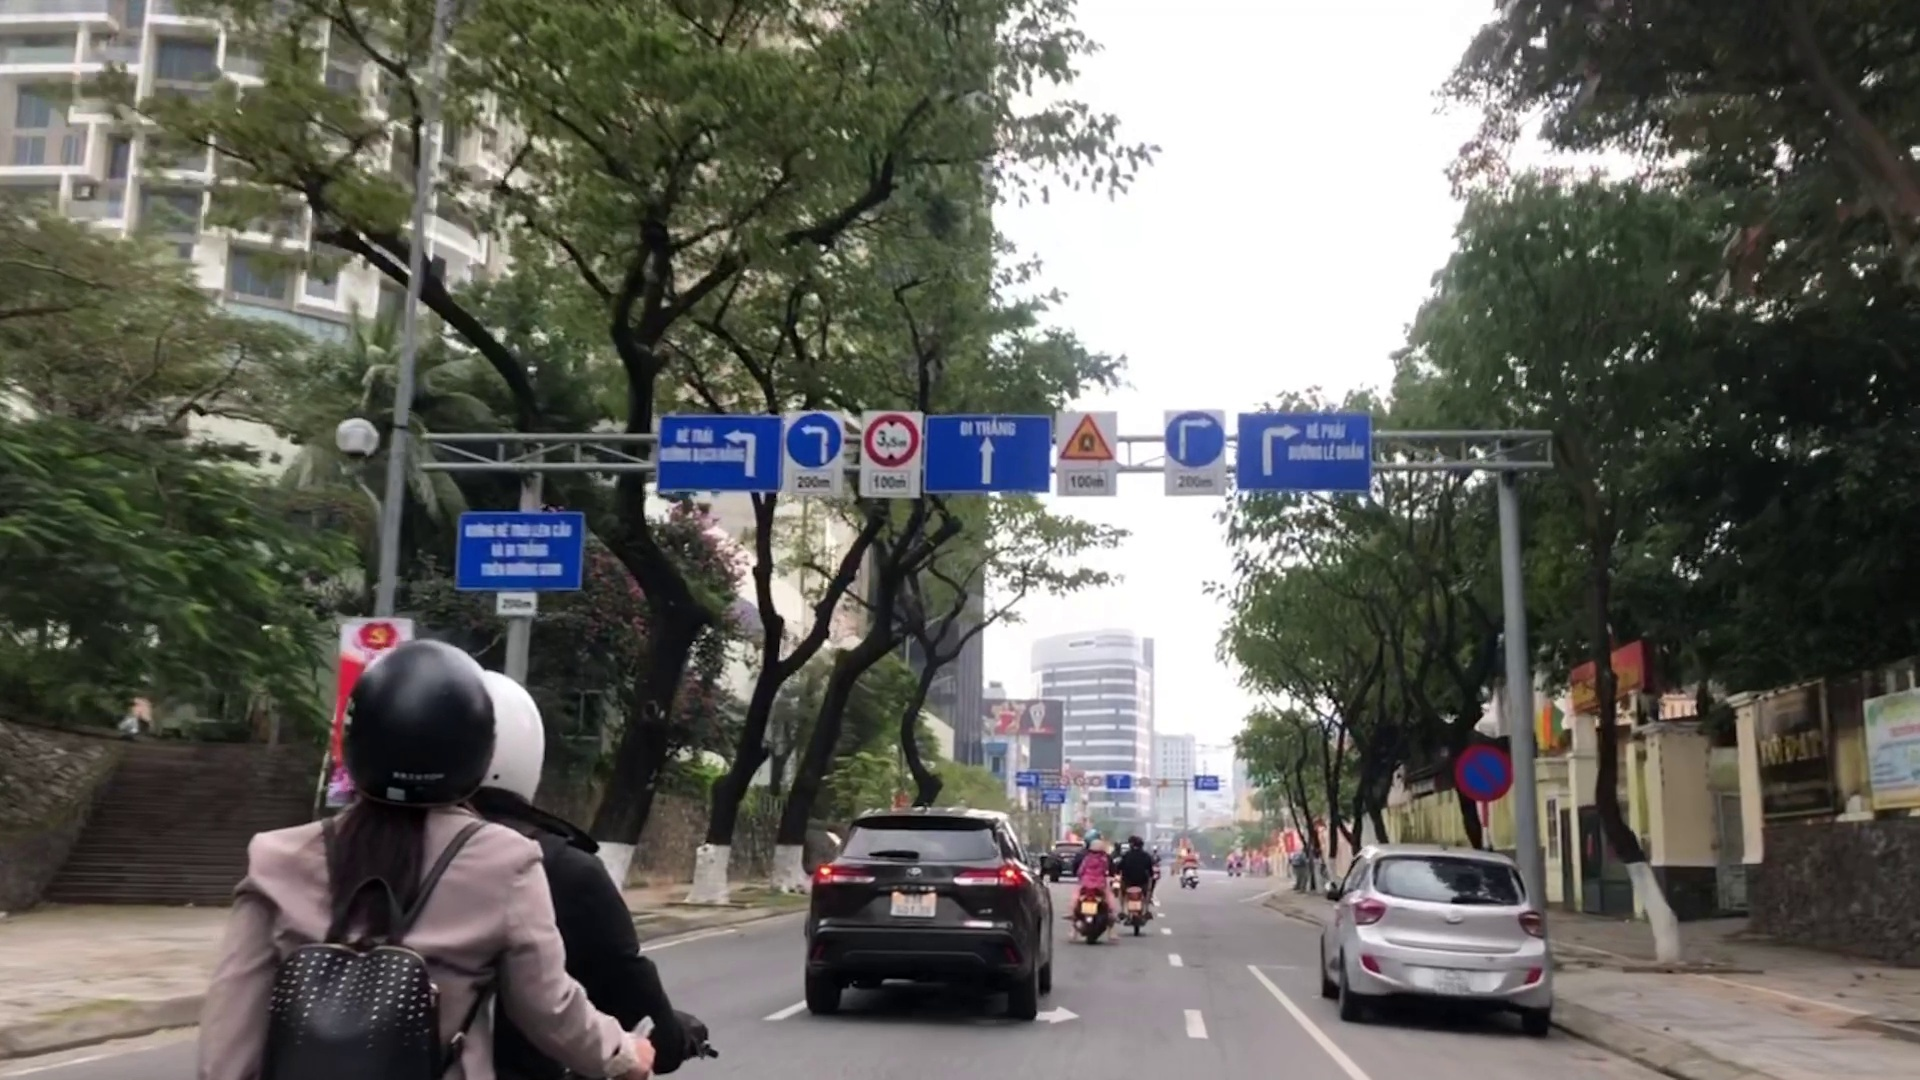Cam do xe: (1451, 737, 1513, 807)
